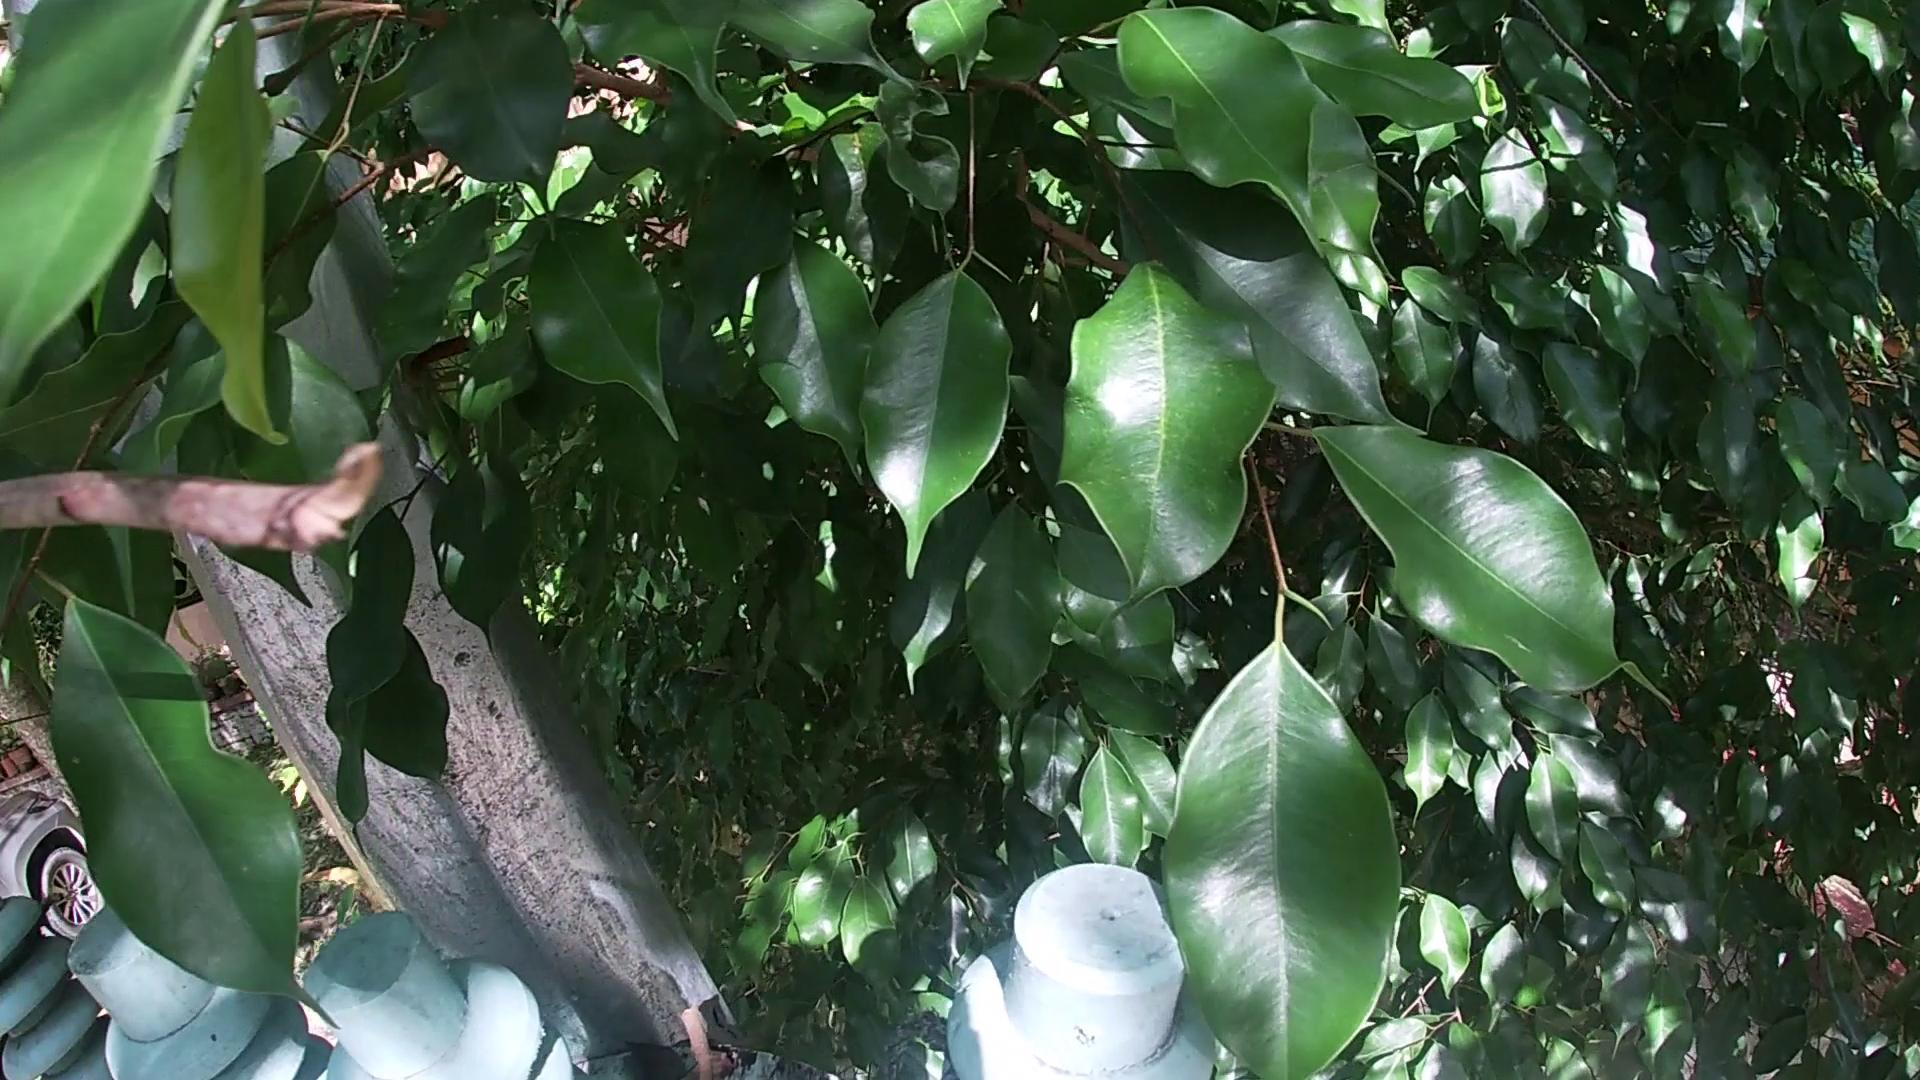tree branch: (1, 427, 423, 597), (680, 1042, 745, 1080), (690, 1004, 720, 1077)
